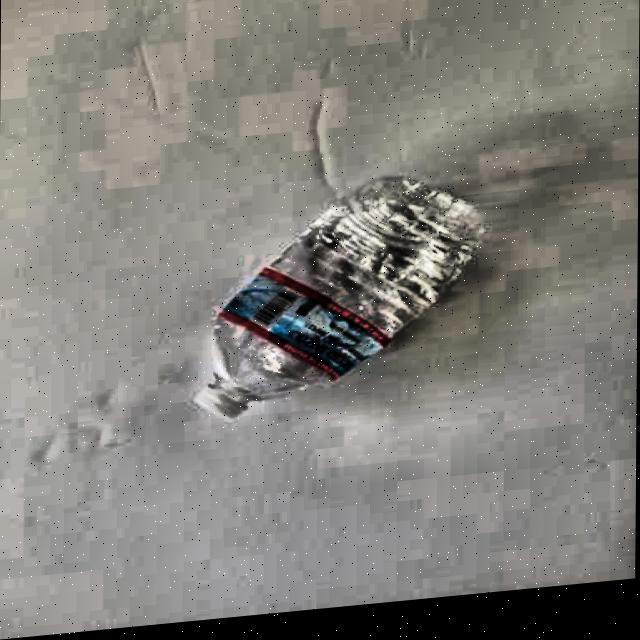plastic: (192, 166, 493, 427)
